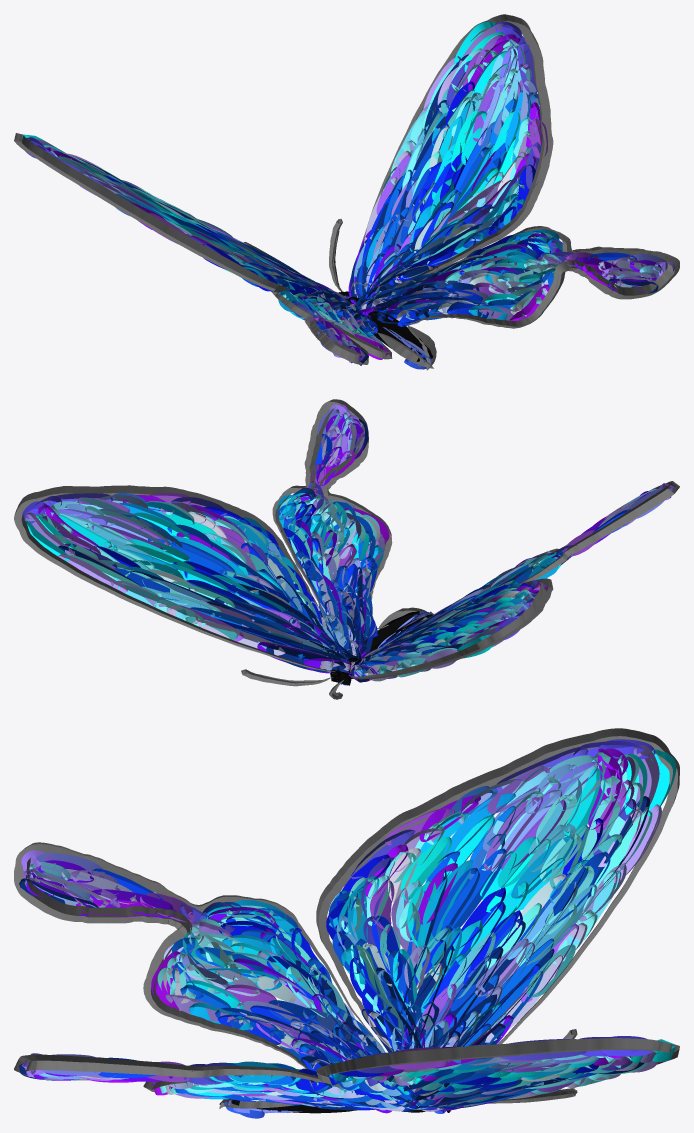
3 views of the same model, one above another, from view 1: azimuth 30°, elevation 25°; view 2: azimuth 150°, elevation 25°; view 3: azimuth 270°, elevation 25° (orthographic). The views are drawn at different scales.
Parts seen in each view (by area): view 1: Curve.F3IofSOEEhT, Curve.DxgcyUdyCsD, Curve.8ZiPbFS1TAT, Curve.fonHktxuDgG, Curve.qeKZqWwCN8p, Curve.erM4BW57jo1, Curve.eA23HJrlgun; view 2: Curve.F3IofSOEEhT, Curve.DxgcyUdyCsD, Curve.8ZiPbFS1TAT, Curve.fonHktxuDgG, Curve.dNUDLohlEHf, Curve.AyvKz61hu0N, Curve.ItQa7qik8ec, Curve.wb7TEevhTbf, Curve.erM4BW57jo1, Curve.hjSFkWHDBgx, Curve.v7CPmuUnIxn, Curve.akRKfd4s4Au (+4 smaller); view 3: Curve.8ZiPbFS1TAT, Curve.fonHktxuDgG, Curve.F3IofSOEEhT, Curve.DxgcyUdyCsD, Curve.xPdggqVq6dH, Curve.MWS-43ihv5g, Curve.Piphy_Oybjj, Curve.fK8CiWeOq6z, Curve.FmukA70uIms, Curve.D9vwtNo5pJI, Curve.g8YenPpqhvo, Curve.GWWFO14dbBq (+50 smaller).
Part boxes in pixels (x1,y1,x2,y2): Curve.F3IofSOEEhT: (361,14,553,288); Curve.DxgcyUdyCsD: (407,226,679,328); Curve.8ZiPbFS1TAT: (14,133,292,291); Curve.fonHktxuDgG: (272,289,392,364); Curve.qeKZqWwCN8p: (382,124,448,255); Curve.erM4BW57jo1: (368,311,432,358); Curve.eA23HJrlgun: (378,333,433,368); Curve.F3IofSOEEhT: (14,485,335,671); Curve.DxgcyUdyCsD: (272,399,392,630); Curve.8ZiPbFS1TAT: (351,578,553,679); Curve.fonHktxuDgG: (514,481,679,583); Curve.dNUDLohlEHf: (197,620,285,655); Curve.AyvKz61hu0N: (266,645,345,672); Curve.ItQa7qik8ec: (58,554,127,592); Curve.wb7TEevhTbf: (241,669,332,686); Curve.erM4BW57jo1: (359,611,419,658); Curve.hjSFkWHDBgx: (188,533,297,609); Curve.v7CPmuUnIxn: (148,538,227,574); Curve.akRKfd4s4Au: (184,569,281,612); Curve.8ZiPbFS1TAT: (316,728,679,1052); Curve.fonHktxuDgG: (14,842,380,1069); Curve.F3IofSOEEhT: (316,1038,679,1086); Curve.DxgcyUdyCsD: (14,1054,340,1092); Curve.xPdggqVq6dH: (442,848,506,932); Curve.MWS-43ihv5g: (525,884,596,962); Curve.Piphy_Oybjj: (400,837,451,900); Curve.fK8CiWeOq6z: (420,860,472,949); Curve.FmukA70uIms: (563,767,605,838); Curve.D9vwtNo5pJI: (613,804,661,882); Curve.g8YenPpqhvo: (443,793,515,859); Curve.GWWFO14dbBq: (545,851,610,925).
Bounding box in the file's own units: 3.63 × 1.25 × 3.26.
